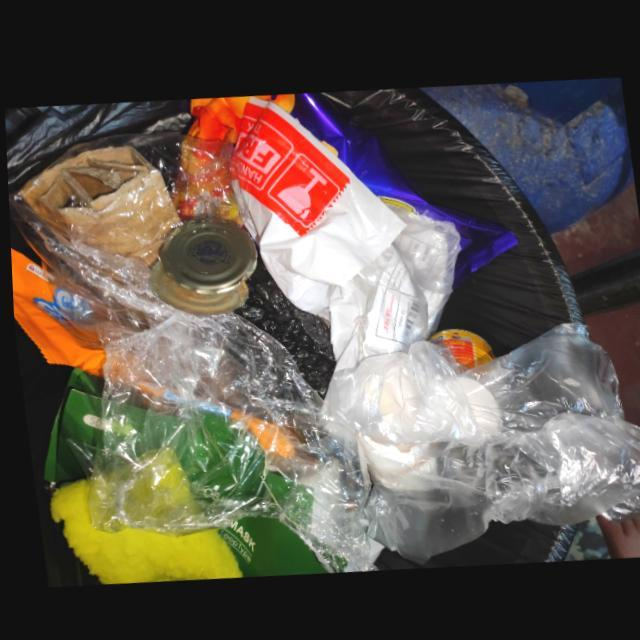metal: (155, 214, 255, 292), (145, 258, 246, 314), (426, 326, 492, 365)
paper: (40, 369, 326, 575)
plastic: (317, 319, 640, 562)
wrapper: (184, 90, 516, 287), (9, 248, 103, 377)
